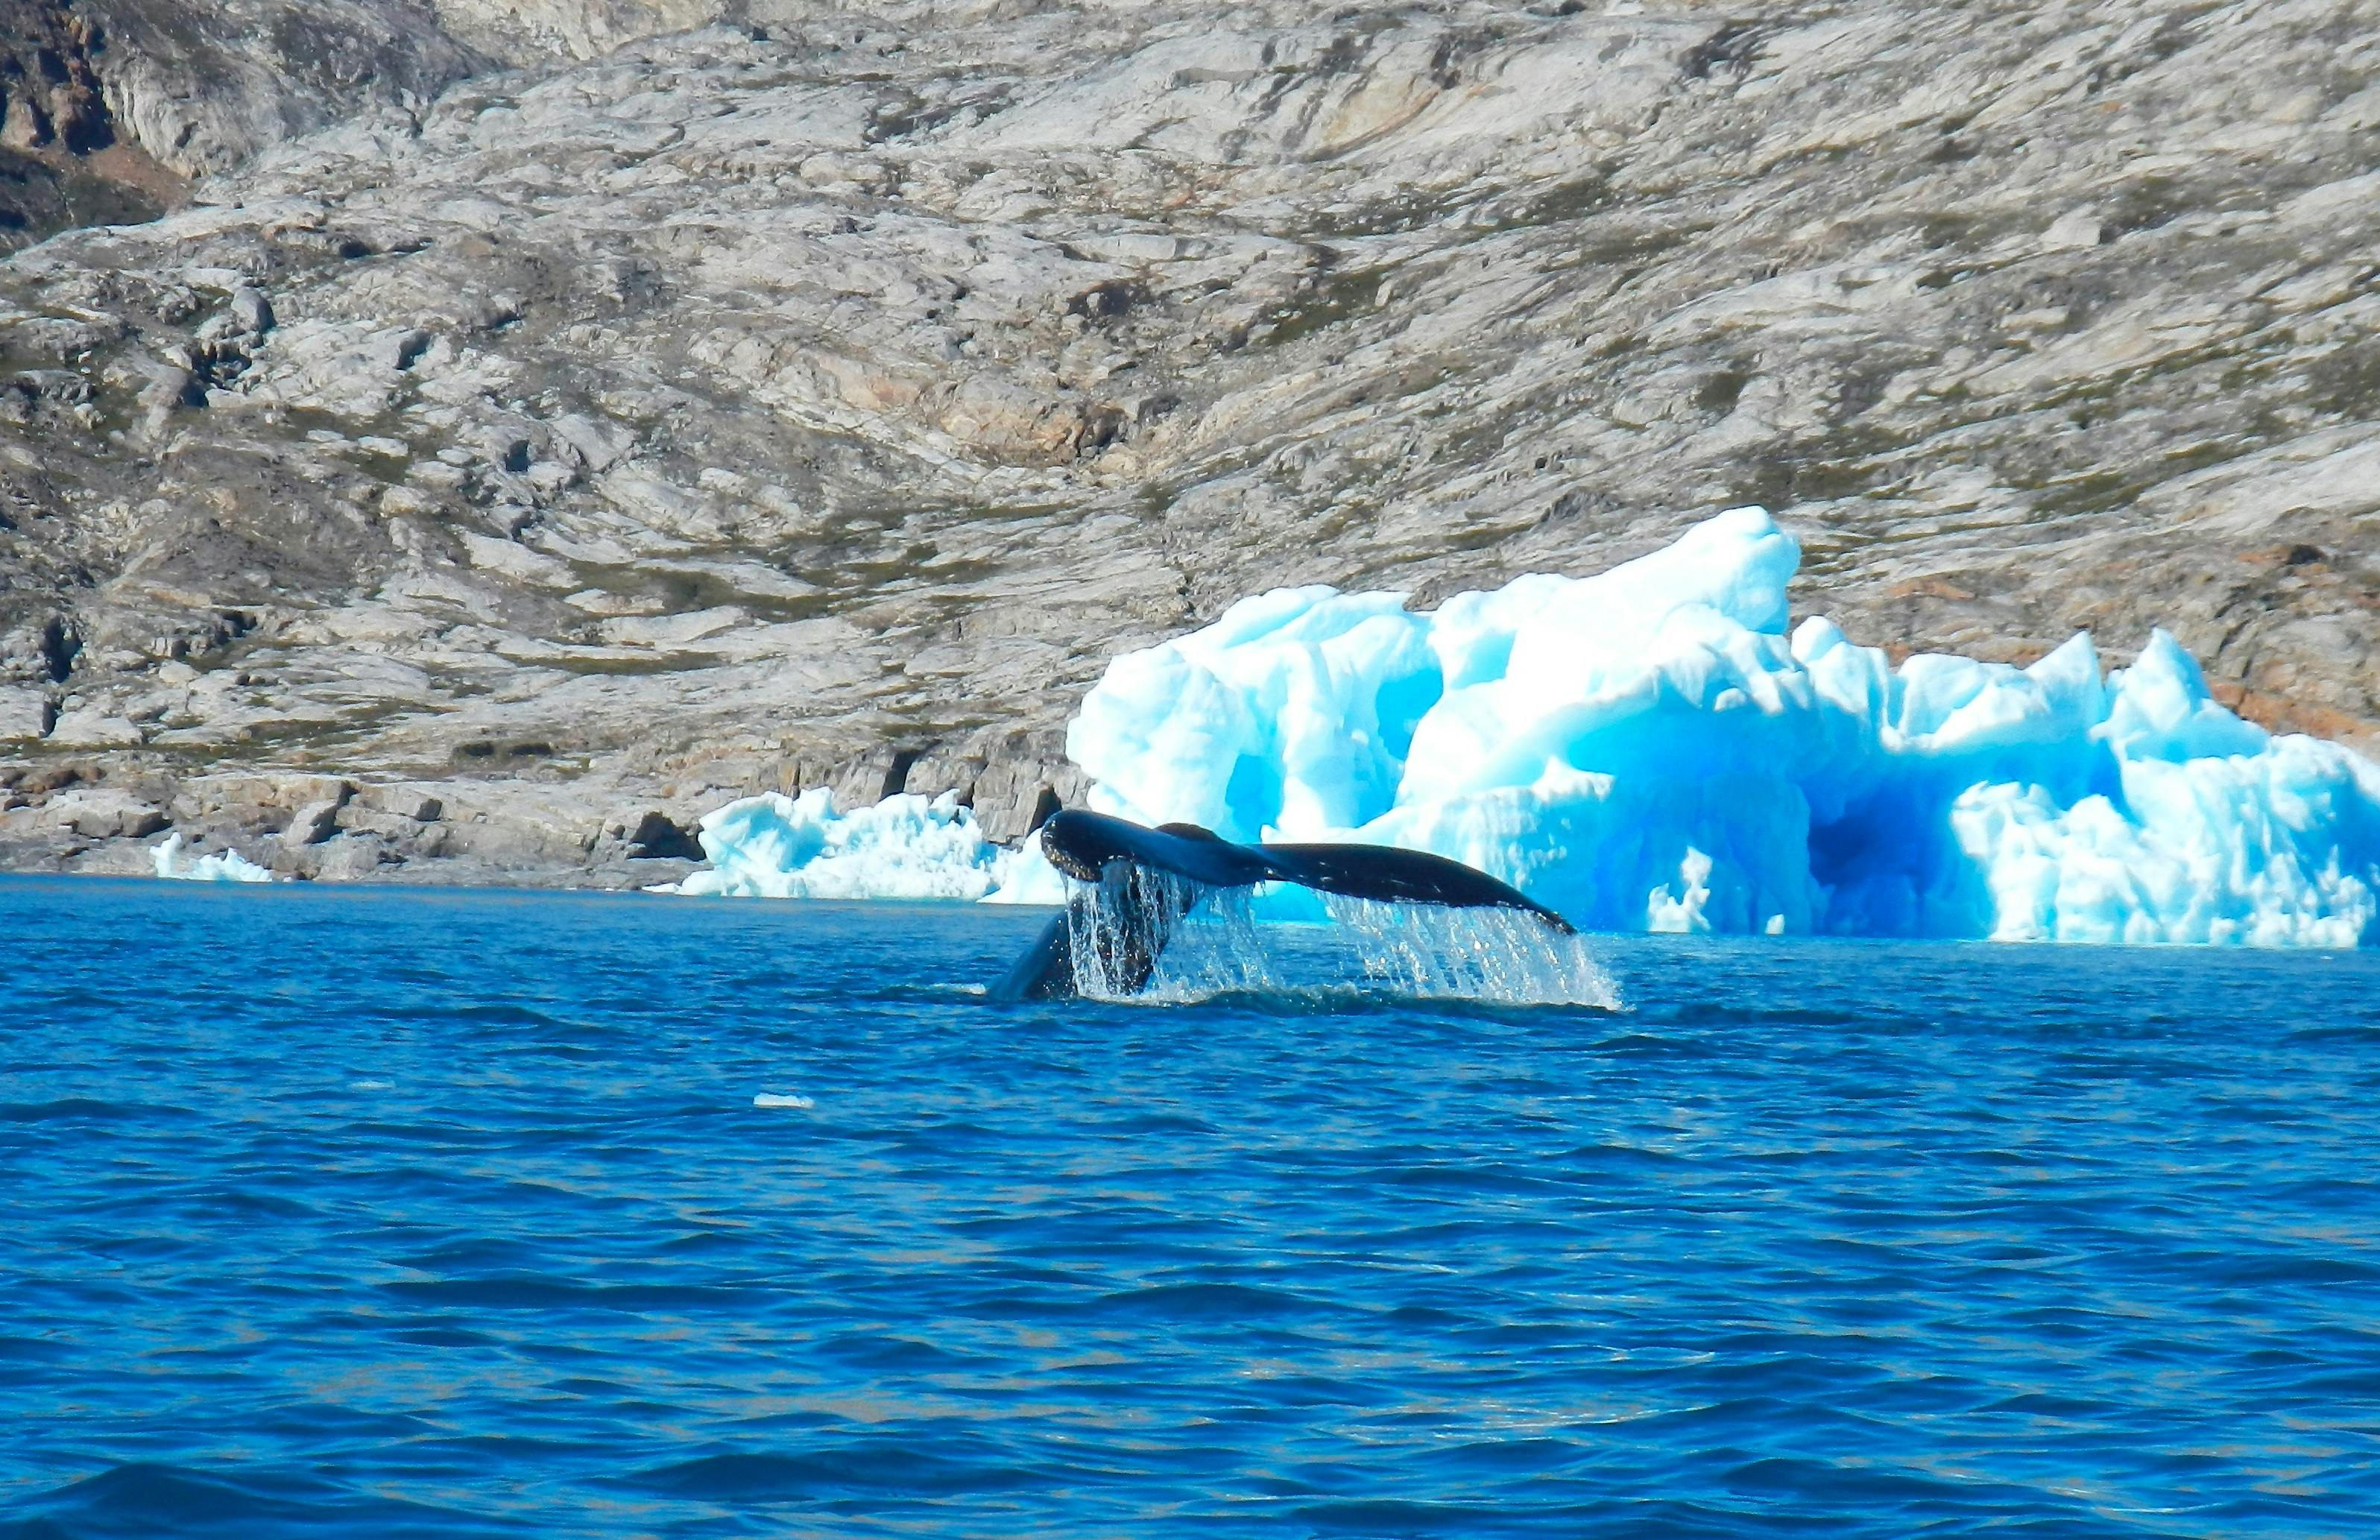whale: (975, 801, 1577, 1004)
